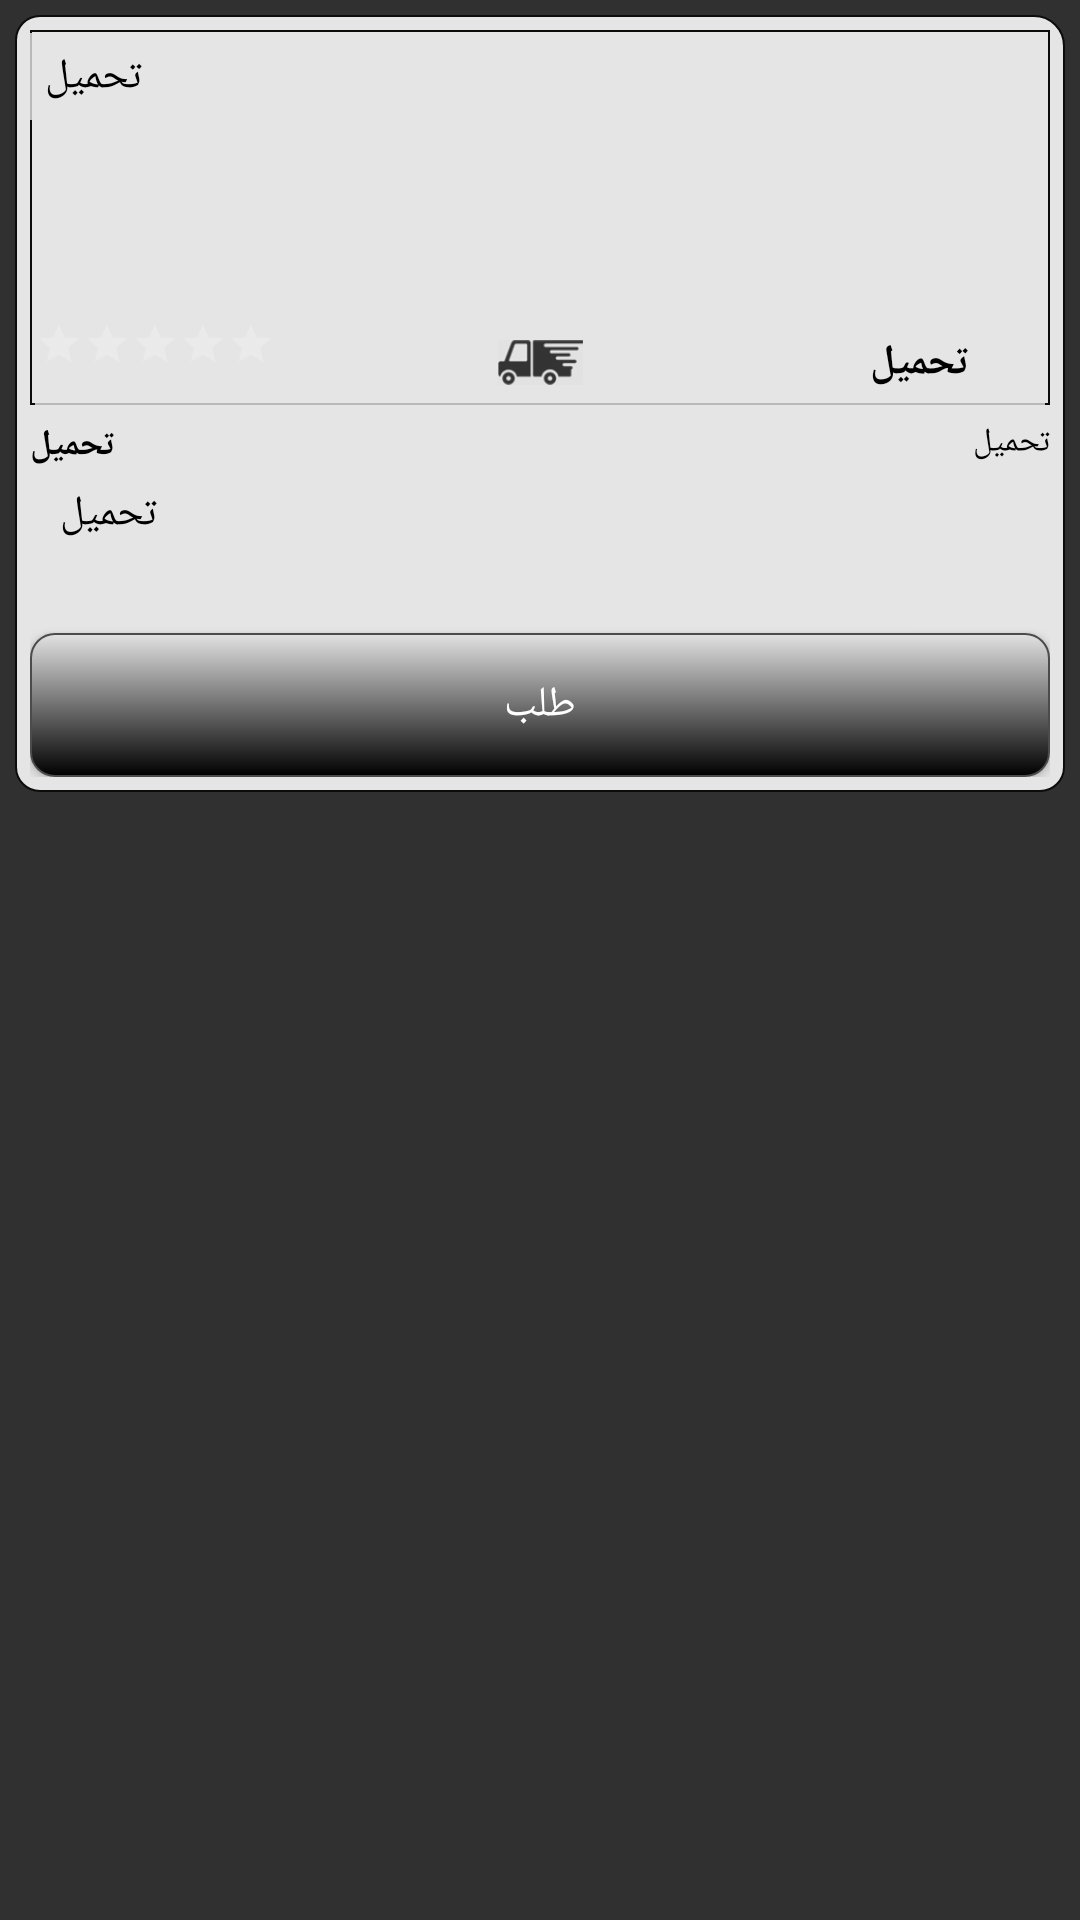

Named icons in this screenshot (1080px×1920px) and their centers, [x,y]:
deliverable: [540,362]
